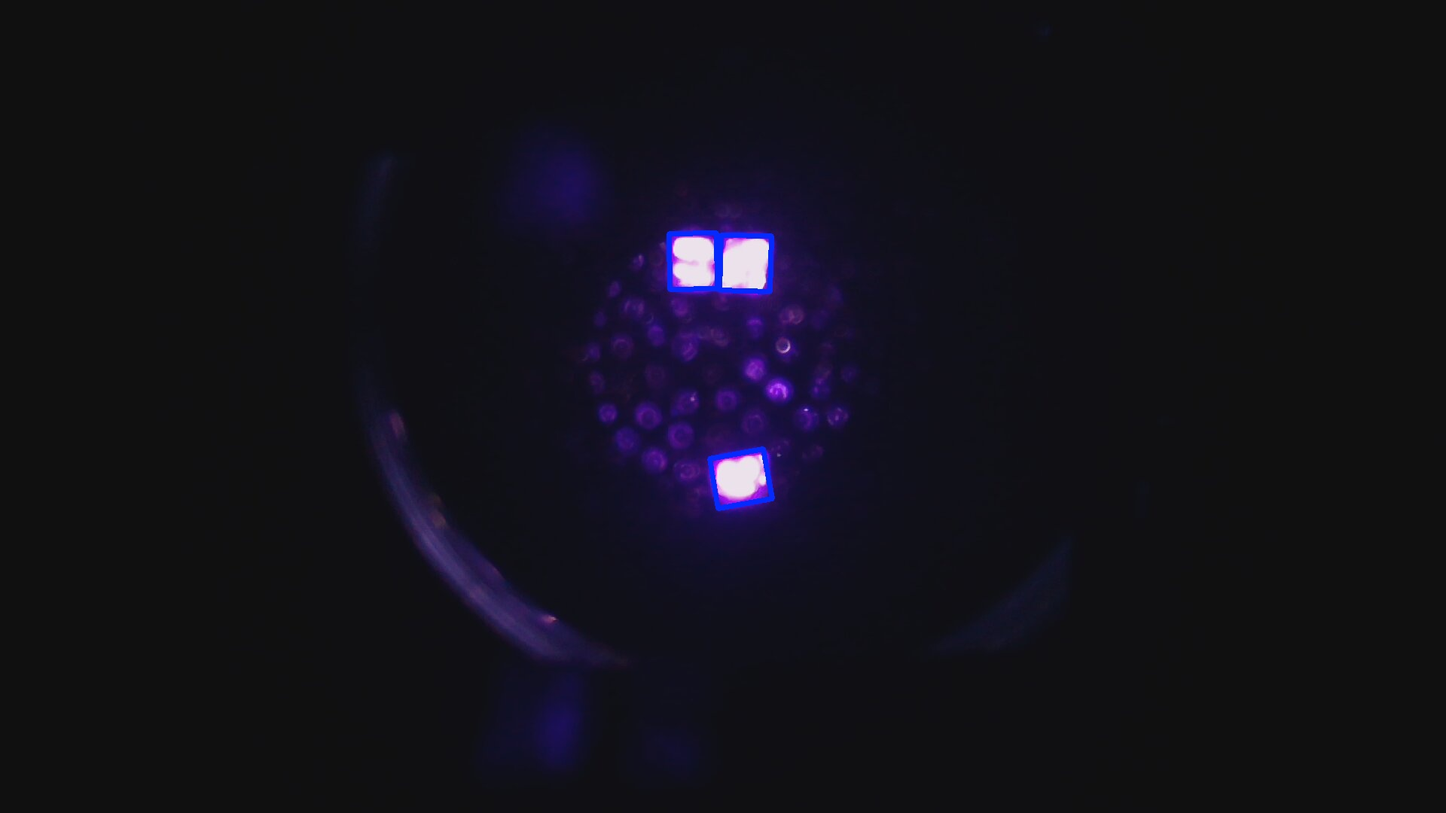plastic: (709, 449, 772, 509), (719, 235, 772, 292), (669, 233, 717, 289)
